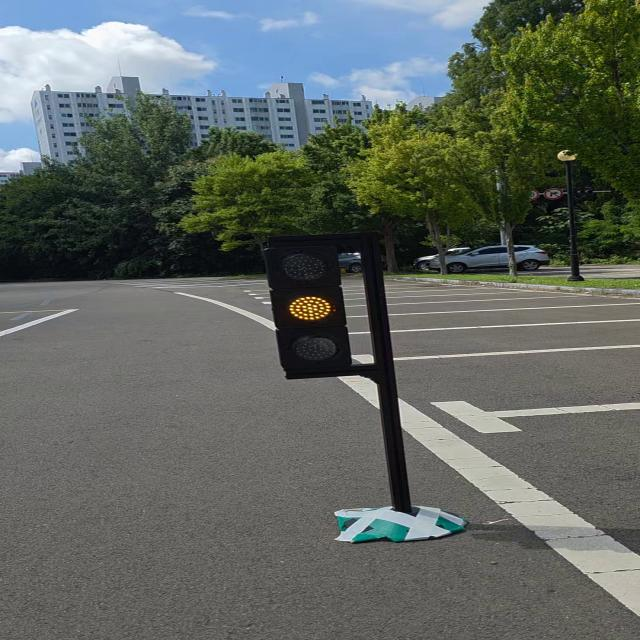yellow: (253, 235, 364, 383)
